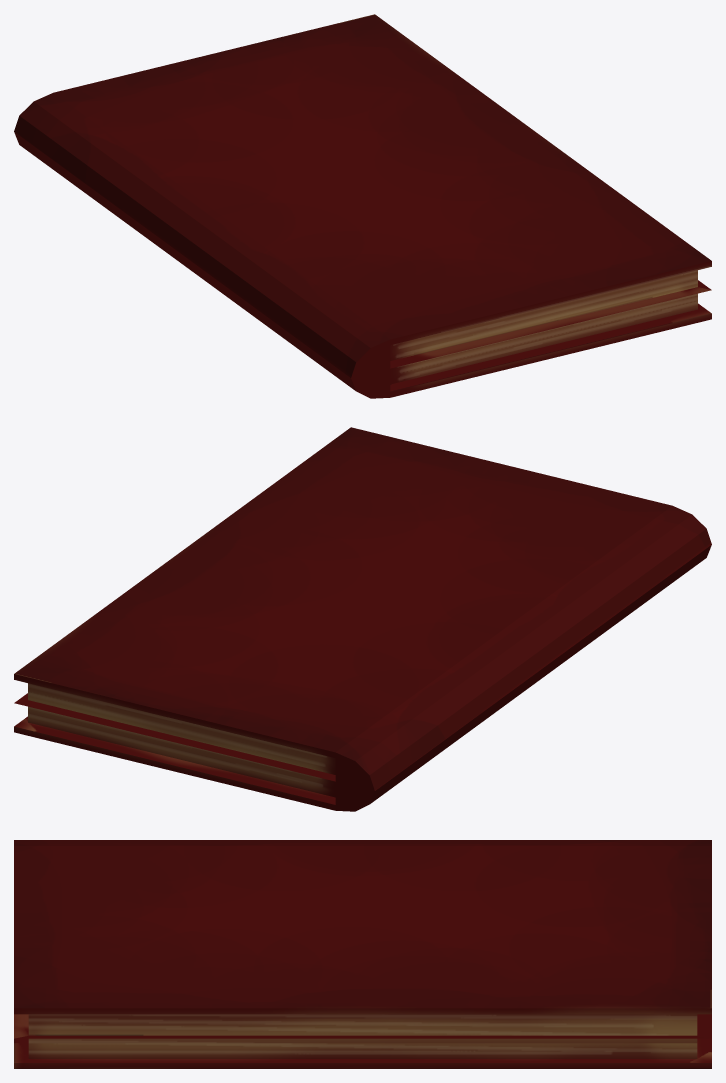
The model's file is Book-1.fbx.
3 renders of one model, top to bottom at view 1: azimuth 30°, elevation 25°; view 2: azimuth 150°, elevation 25°; view 3: azimuth 270°, elevation 25°, orthographic. The views are drawn at different scales.
Parts seen in each view (by area): view 1: Book-1; view 2: Book-1; view 3: Book-1.
Boxes of the visible parts, box(x1,y1,x2,y2) form: Book-1: box(14, 14, 711, 398); Book-1: box(14, 427, 711, 811); Book-1: box(14, 840, 711, 1068).
Bounding box in the file's own units: 200 × 30.92 × 323.
1 material, 1 textured.
